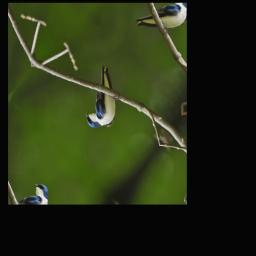Swallow: (70, 63, 135, 139)
